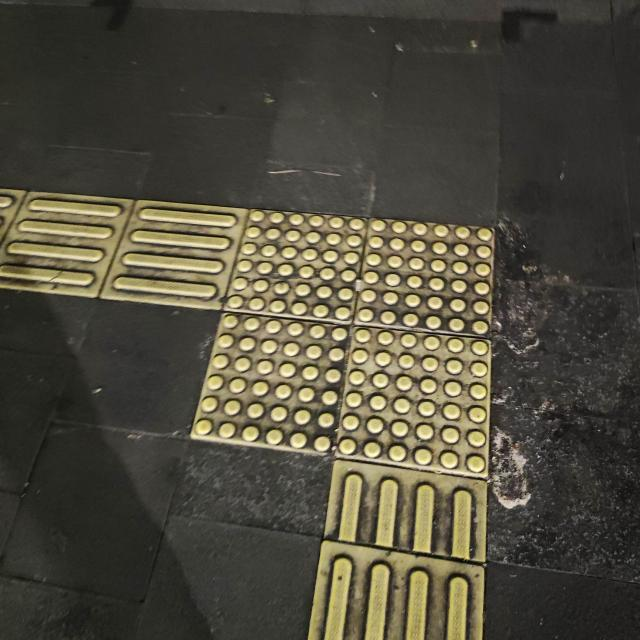kiri: (2, 152, 606, 561)
